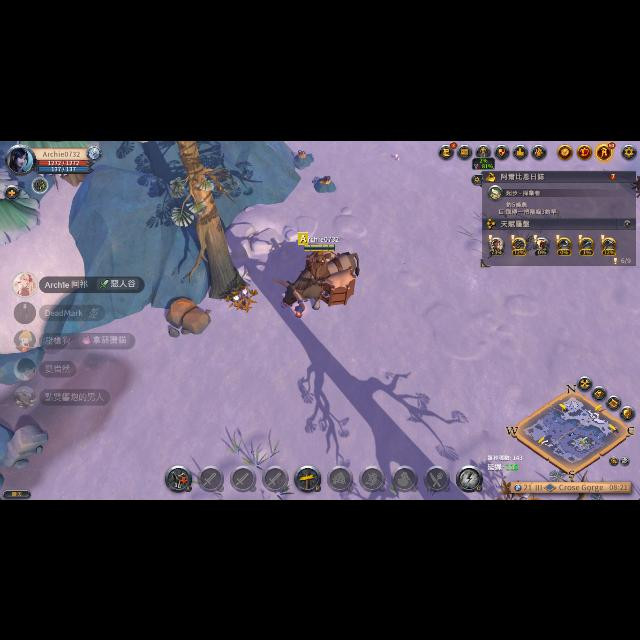mine_ii: (311, 172, 337, 194), (294, 148, 314, 168)
